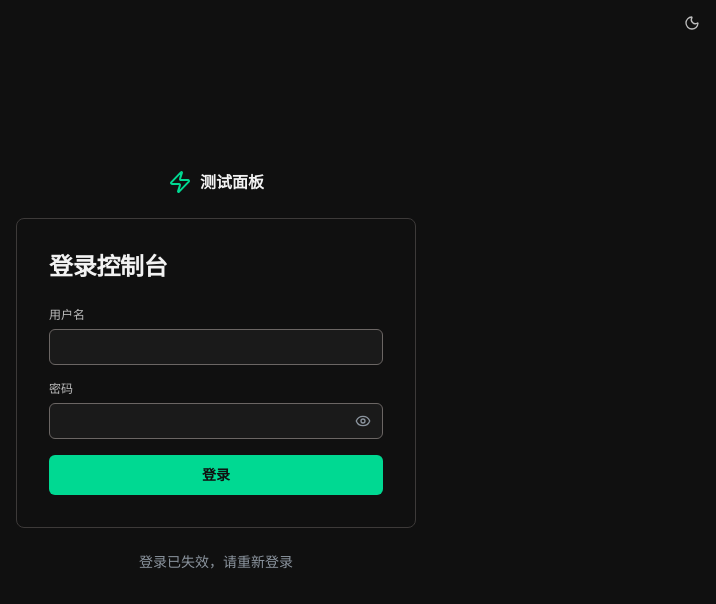
登录与兼容路由 › 公开品牌/过期提示、失败内联错误和密码回焦，移除地址入口
Check: the text "测试面板" is shown, box x1=200 y1=170 x2=264 y2=194
Check: the text "登录已失效，请重新登录" is shown, box x1=139 y1=552 x2=293 y2=572
Type "alice" into the field labelled "用户名" at [216, 347], box x1=49 y1=329 x2=383 y2=365
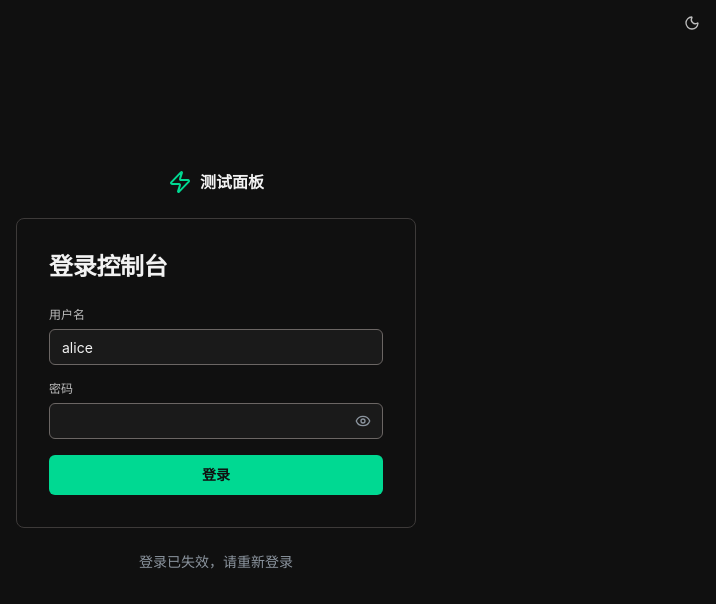
Type "wrong" into the password field labelled "密码" at [216, 421], box x1=49 y1=403 x2=383 y2=439
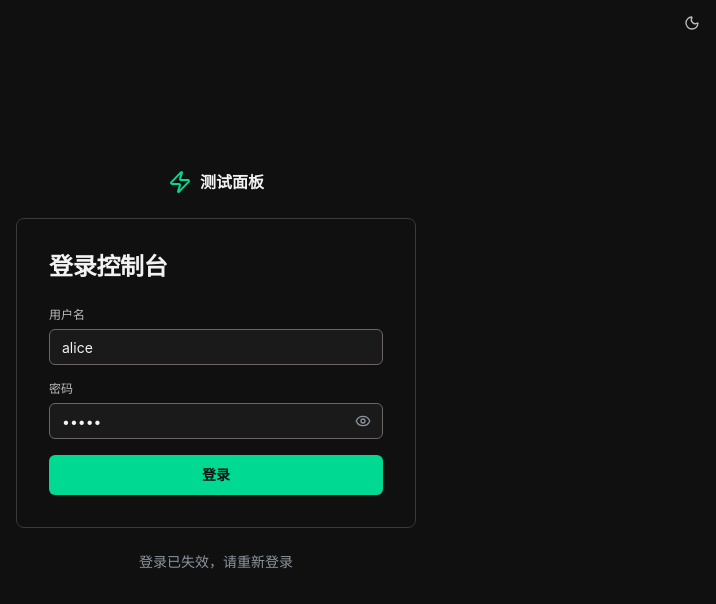
Click the button named "显示密码" at [363, 421], box x1=343 y1=403 x2=383 y2=439
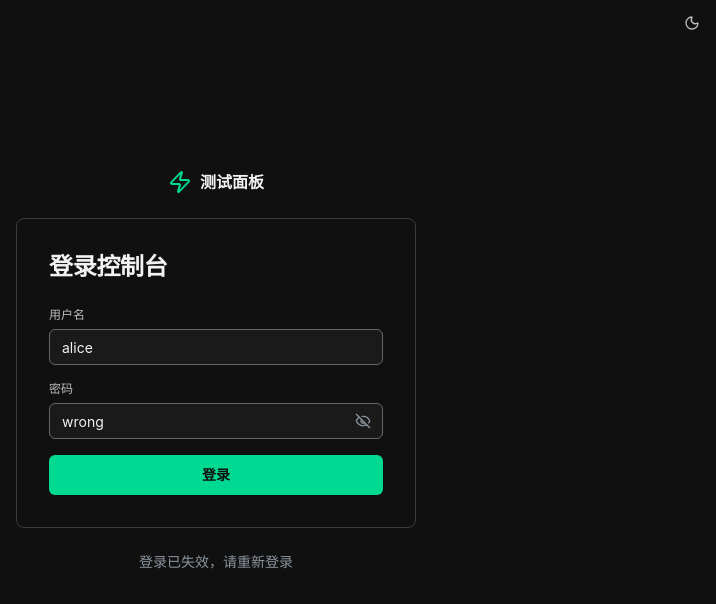
Check: the field labelled "密码" shows its text, box x1=49 y1=403 x2=383 y2=439
Click the button named "隐藏密码" at [363, 421], box x1=343 y1=403 x2=383 y2=439
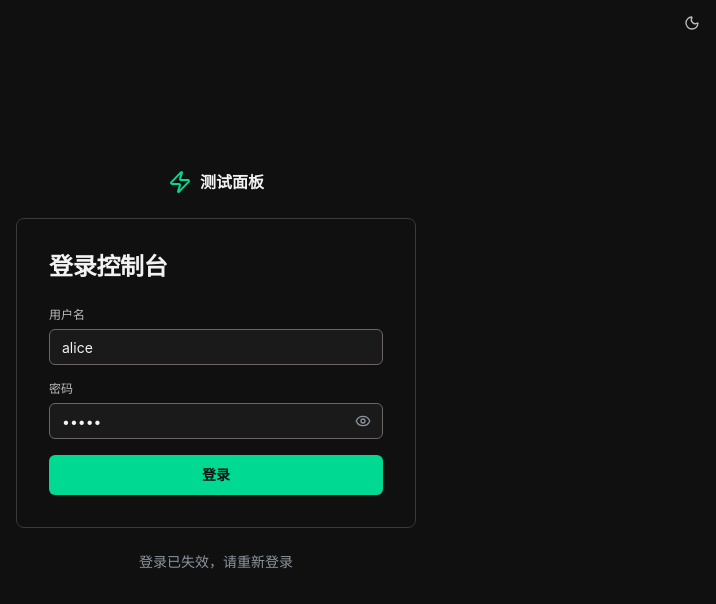
Click the button "登录" at [216, 475], box x1=49 y1=455 x2=383 y2=495
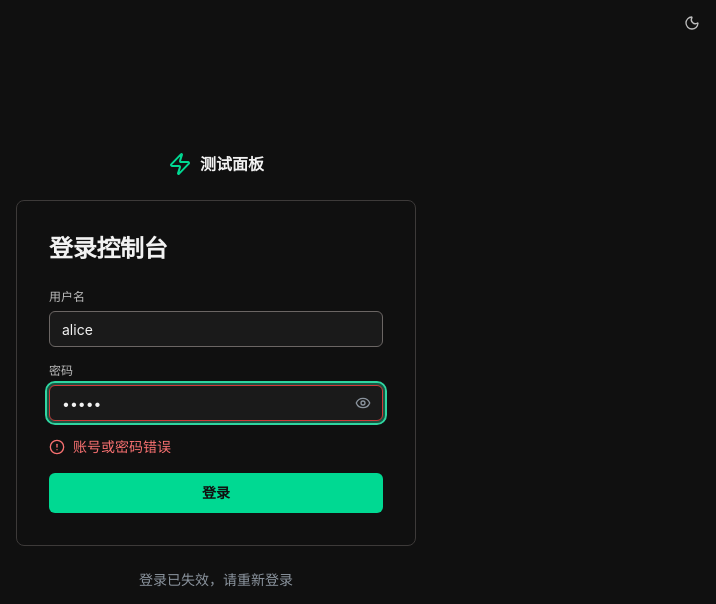
Check: the message "账号或密码错误" is shown, box x1=49 y1=438 x2=171 y2=455
